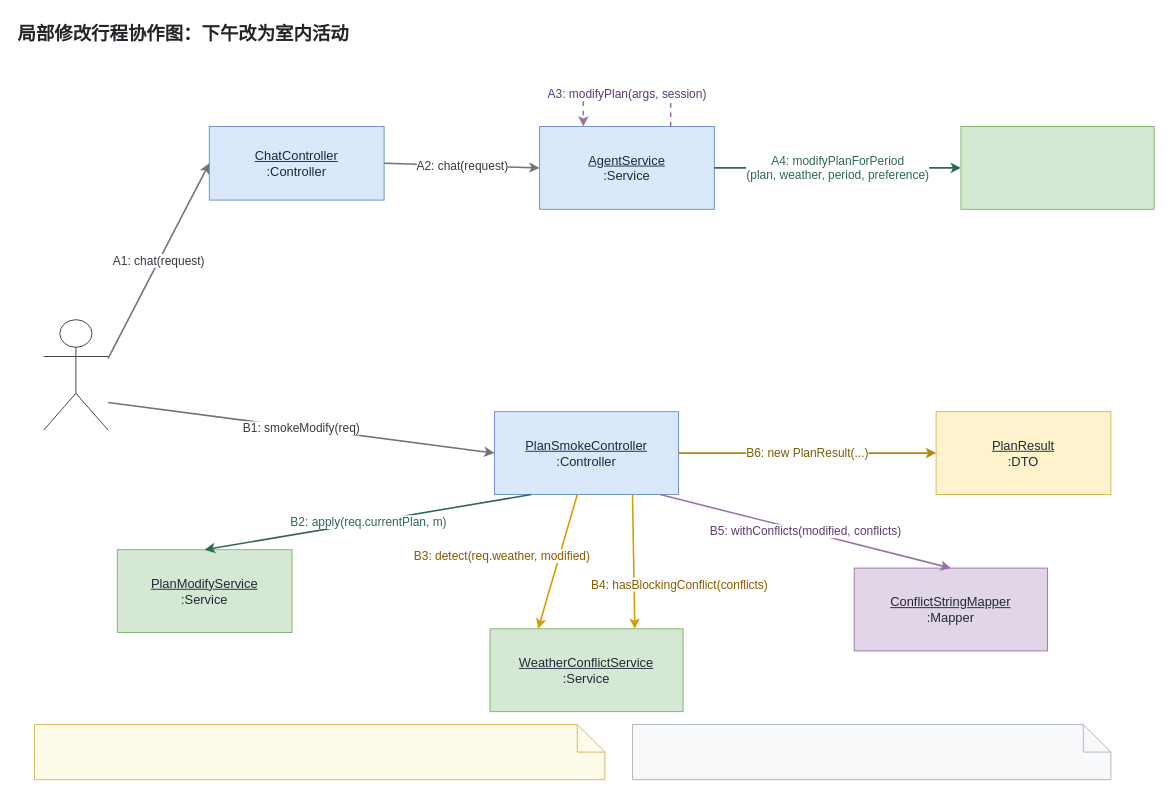
Some shapes in this 1170 by 796 pixel diagram are drawn without their labels. Each missing label, with the centre of its shape:
"TravelPlanService :Service" goes at (x=1057, y=167).
"场景参数：targetPeriod=AFTERNOON；newActivityPreference=INDOOR；confirmConflicts=true" goes at (x=319, y=752).
"用户" goes at (x=75, y=374).
"说明：TravelPlanTools 现有代码未提供修改行程方法，因此本图不绘制该调用。" goes at (x=871, y=752).
